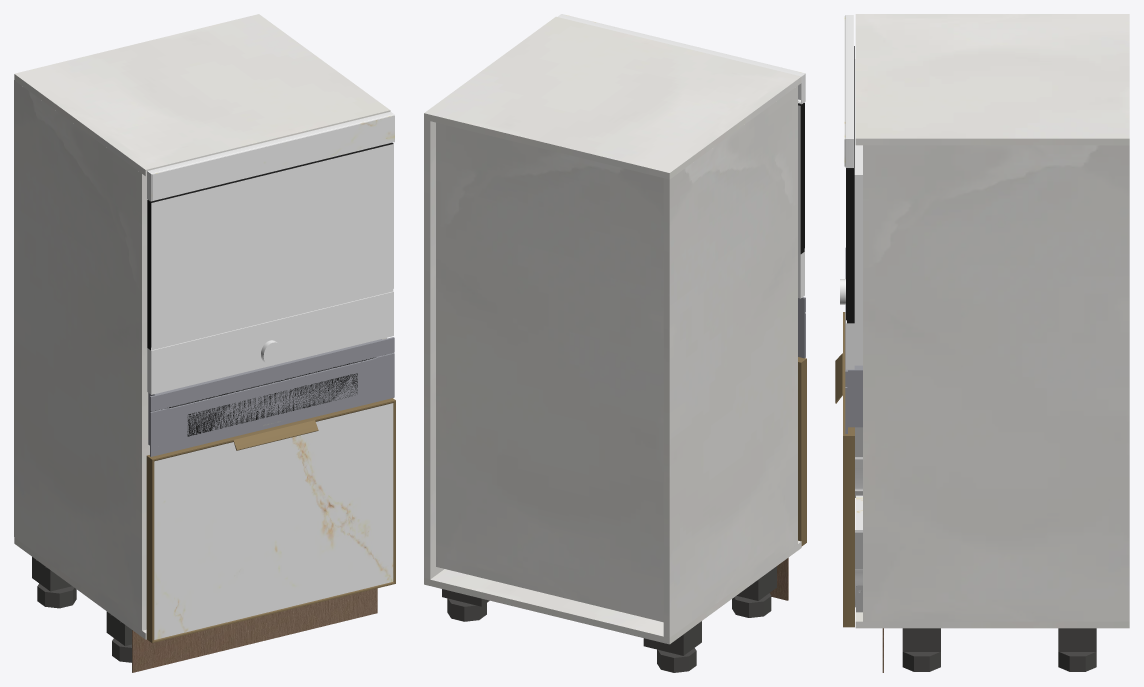
The model's file is MDT-MW-TTS-ST-1HB-1SX-XXX-600-1200-560-15.glb.
3 views of the same model, side by side, from view 1: azimuth 30°, elevation 25°; view 2: azimuth 150°, elevation 25°; view 3: azimuth 270°, elevation 25° (orthographic). The views are drawn at different scales.
Visible parts, largest first — view 1: TP_node_0, SKP_Component1_node_1, Object_node_39, TP, Miele+Micro (2)4, TP_node_4, Object_node_41, Miele+Micro (2)3, Miele+Micro (2)0, Extrusion_node_4, SKP_Component0_node_2, ExtrSplGeo (+6 smaller); view 2: TP_node_5, TP_node_0, TP, TP_node, TP_node_1, Extrusion_node_4, ALU PROF FOR SHUTTER 851P IMP_node_1, Plate, Foot, SKP_Component0_node_2, Foot_node_0, Foot_node (+2 smaller); view 3: TP_node_1, TP, TP_node, Extrusion_node_2, SKP_Component0_node_1, SKP_Component0_node_2, Miele+Micro (2)3, ALU PROF FOR SHUTTER 851P IMP_node_1, Plate_node_1, Plate_node, Foot_node, Foot_node_1 (+1 smaller).
Part boxes in pixels (bbox=[...]): TP_node_0: bbox=[14, 80, 148, 630]; SKP_Component1_node_1: bbox=[147, 144, 393, 394]; Object_node_39: bbox=[154, 403, 393, 639]; TP: bbox=[14, 14, 390, 176]; Miele+Micro (2)4: bbox=[151, 341, 393, 448]; TP_node_4: bbox=[151, 115, 394, 200]; Object_node_41: bbox=[132, 588, 377, 672]; Miele+Micro (2)3: bbox=[148, 337, 394, 456]; Miele+Micro (2)0: bbox=[150, 357, 375, 436]; Extrusion_node_4: bbox=[146, 456, 154, 642]; SKP_Component0_node_2: bbox=[147, 143, 393, 350]; ExtrSplGeo: bbox=[230, 418, 318, 450]; TP_node_5: bbox=[436, 122, 663, 622]; TP_node_0: bbox=[663, 86, 797, 637]; TP: bbox=[424, 16, 801, 179]; TP_node: bbox=[424, 540, 801, 644]; TP_node_1: bbox=[424, 119, 443, 579]; Extrusion_node_4: bbox=[798, 359, 806, 546]; ALU PROF FOR SHUTTER 851P IMP_node_1: bbox=[557, 14, 804, 76]; Plate: bbox=[643, 621, 701, 655]; Foot: bbox=[657, 648, 696, 672]; SKP_Component0_node_2: bbox=[798, 102, 804, 253]; Foot_node_0: bbox=[732, 593, 771, 617]; Foot_node: bbox=[447, 598, 486, 621]; TP_node_1: bbox=[863, 145, 1129, 621]; TP: bbox=[855, 14, 1129, 145]; TP_node: bbox=[855, 498, 1129, 628]; Extrusion_node_2: bbox=[843, 436, 854, 627]; SKP_Component0_node_1: bbox=[854, 59, 862, 365]; SKP_Component0_node_2: bbox=[846, 46, 854, 323]; Miele+Micro (2)3: bbox=[845, 247, 862, 433]; ALU PROF FOR SHUTTER 851P IMP_node_1: bbox=[845, 15, 853, 138]; Plate_node_1: bbox=[902, 628, 940, 651]; Plate_node: bbox=[1058, 628, 1096, 651]; Foot_node: bbox=[1058, 652, 1096, 671]; Foot_node_1: bbox=[902, 652, 940, 671].
Size of what is drawn, in the model's own units: 0.6 by 1.2 by 0.5992.
Materials: 13 (3 with a texture image).
